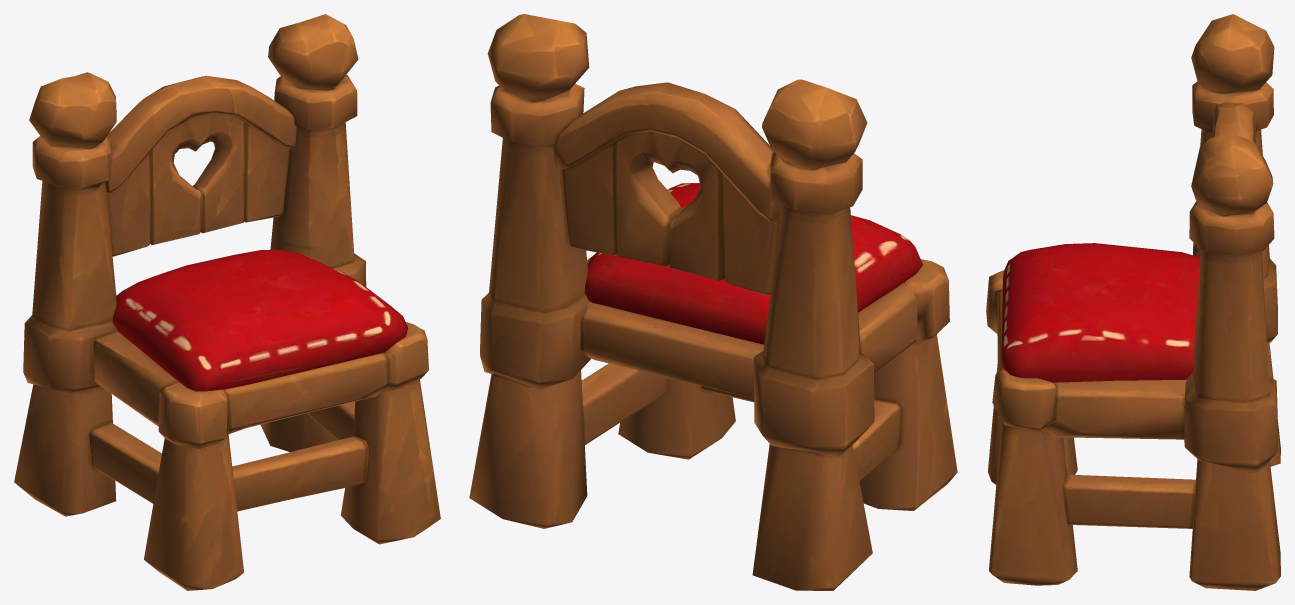
Rendered from chaise.glb.
3 renders of one model, left to right at view 1: azimuth 30°, elevation 25°; view 2: azimuth 150°, elevation 25°; view 3: azimuth 270°, elevation 25°, orthographic. The views are drawn at different scales.
Visible parts, largest first — view 1: geometry_0; view 2: geometry_0; view 3: geometry_0.
Boxes of the visible parts, box(x1,y1,x2,y2) form: geometry_0: box(14, 14, 440, 590); geometry_0: box(469, 14, 957, 590); geometry_0: box(986, 14, 1280, 590).
Size of the model in its own units: 0.7388 by 0.9536 by 0.5728.
Materials: 1 (1 with a texture image).
